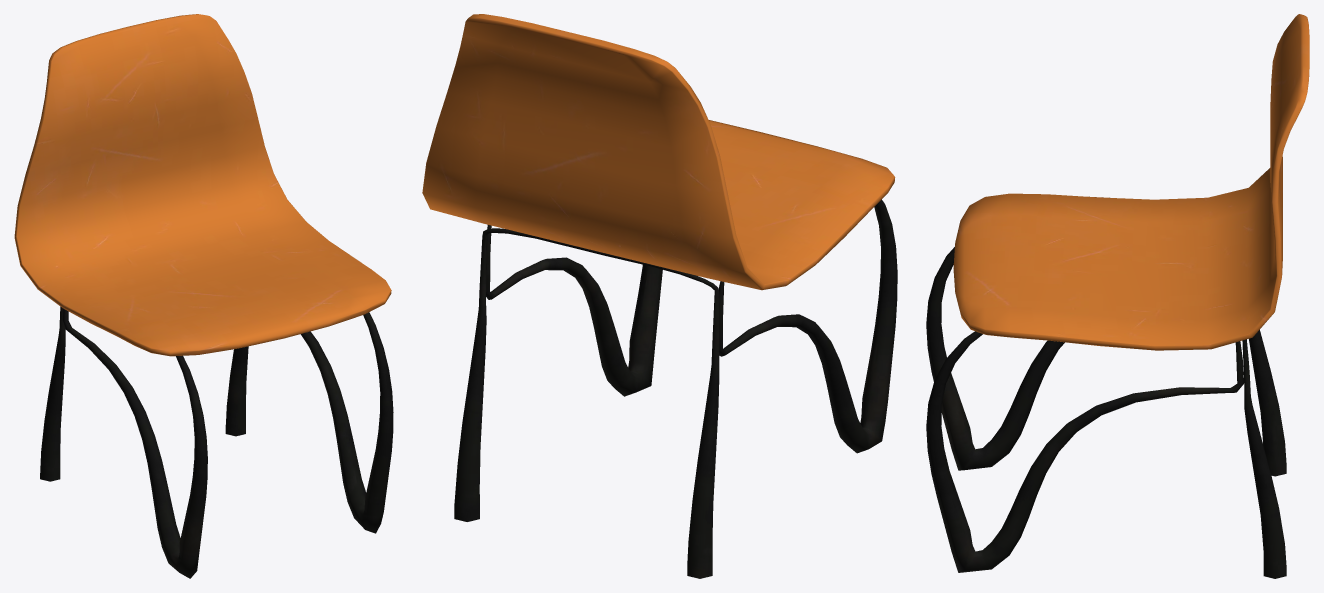
The model's file is chair_006.glb.
The picture shows the model from 3 angles, left to right: view 1: azimuth 30°, elevation 25°; view 2: azimuth 150°, elevation 25°; view 3: azimuth 270°, elevation 25°; orthographic projection. The views are drawn at different scales.
Visible parts, largest first — view 1: Chair_006; view 2: Chair_006; view 3: Chair_006.
Boxes of the visible parts, x1,y1,x2,y2 form: Chair_006: (14,14,393,578); Chair_006: (422,14,897,578); Chair_006: (926,14,1309,578).
Bounding box in the file's own units: 0.6872 × 1.02 × 0.7536.
Materials: 1 (1 with a texture image).
